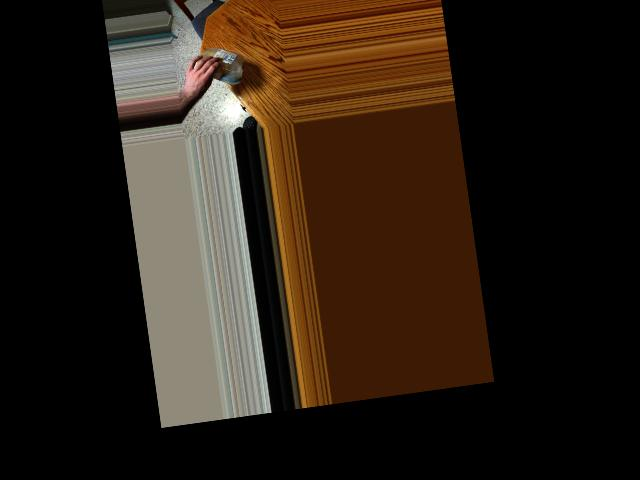cheese: (199, 49, 244, 84)
